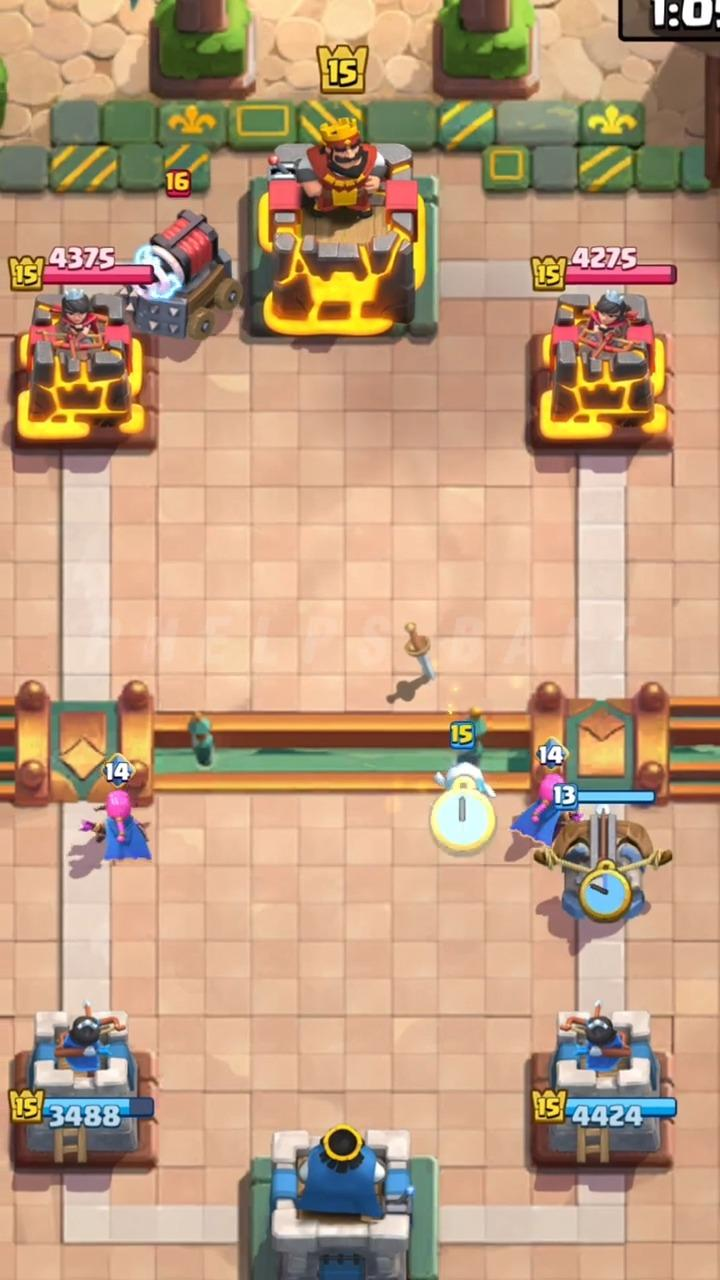archer: (511, 773, 582, 845), (82, 789, 151, 860)
ice spirit: (435, 763, 495, 799)
sparky: (125, 209, 240, 343)
x-bow: (533, 806, 671, 924)
